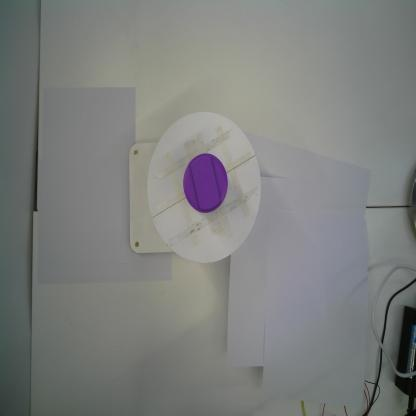Canned Food: (180, 149, 228, 215)
